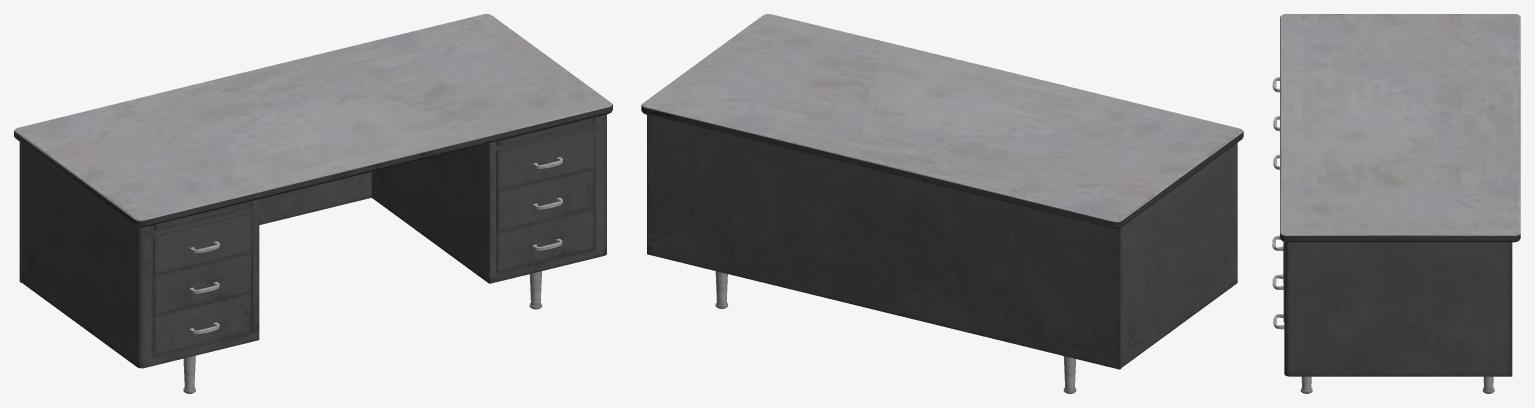
File: metal_office_desk.glb
3 renders of one model, left to right at view 1: azimuth 30°, elevation 25°; view 2: azimuth 150°, elevation 25°; view 3: azimuth 270°, elevation 25°, orthographic. The views are drawn at different scales.
Visible parts, largest first — view 1: metal_office_desk; view 2: metal_office_desk; view 3: metal_office_desk.
Part boxes in pixels (x1,y1,x2,y2): metal_office_desk: (14,14,612,393); metal_office_desk: (641,14,1243,393); metal_office_desk: (1272,14,1520,393).
Bounding box in the file's own units: 2 × 0.7875 × 0.9472.
Materials: 1 (1 with a texture image).
